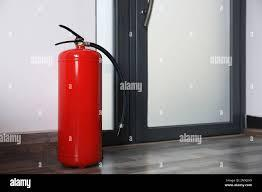floor-kept: (51, 23, 132, 173)
